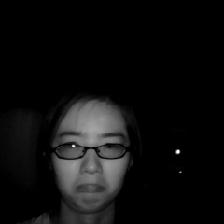sad: (30, 86, 136, 215)
